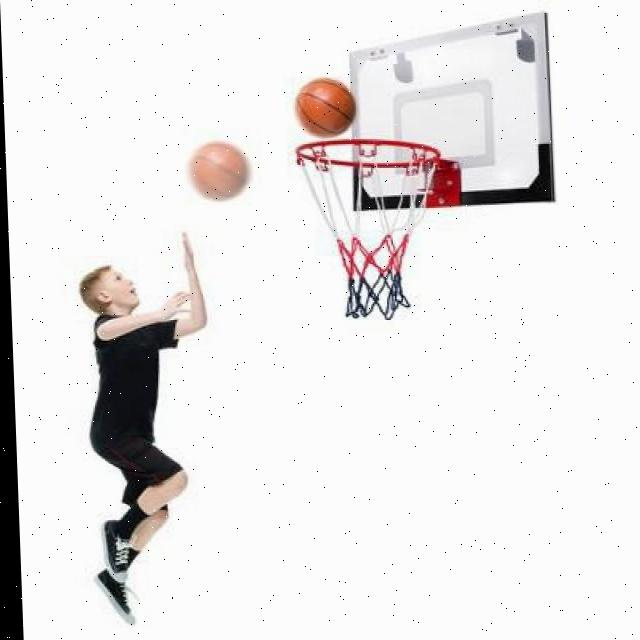Basketball: (296, 78, 358, 140), (189, 142, 249, 200)
hoop: (295, 139, 446, 320)
